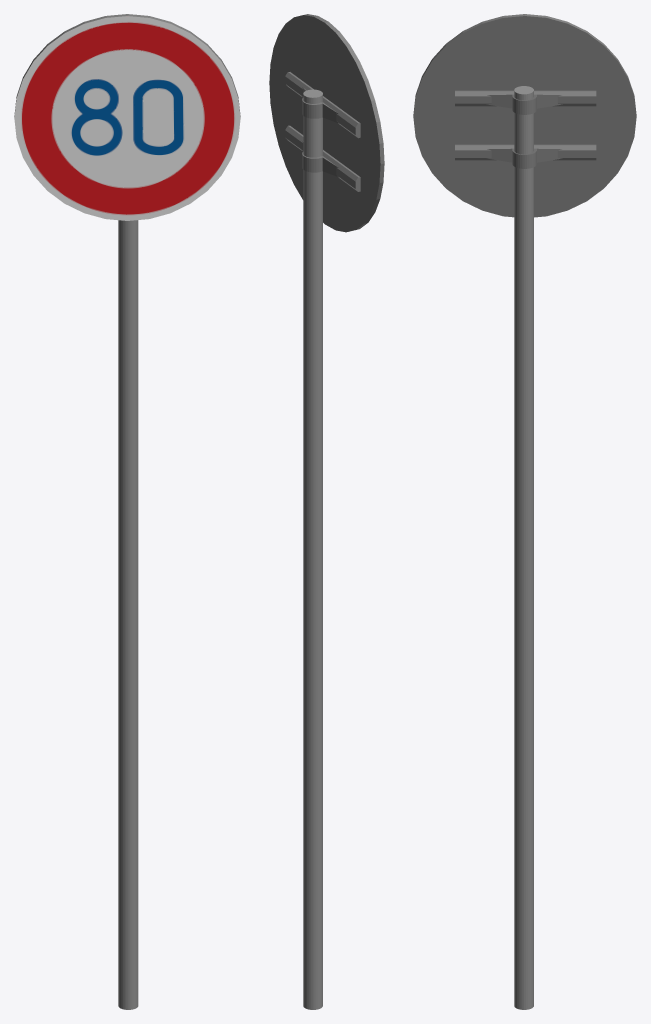
3 renders of one model, left to right at view 1: azimuth 90°, elevation 25°; view 2: azimuth 210°, elevation 25°; view 3: azimuth 270°, elevation 25°, orthographic.
Parts seen in each view (by area): view 1: 025-80, Prop; view 2: Prop, 025-80; view 3: 025-80, Prop.
Boxes of the visible parts, left/top/right/bottom form: 025-80: left=14, top=14, right=240, bottom=220; Prop: left=118, top=220, right=138, bottom=1009; Prop: left=285, top=72, right=360, bottom=1009; 025-80: left=269, top=14, right=384, bottom=232; 025-80: left=413, top=14, right=636, bottom=217; Prop: left=455, top=86, right=596, bottom=1009.
Bounding box in the file's own units: 6.76 × 253 × 52.01.
